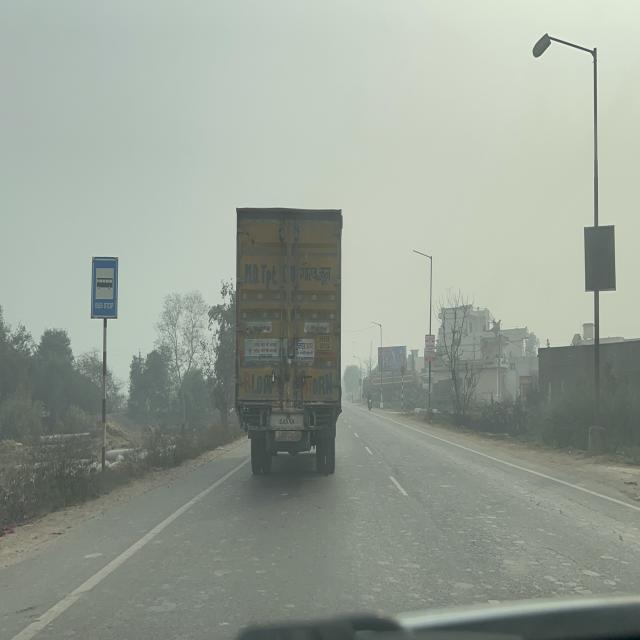INFORMATION: (90, 256, 118, 322)
